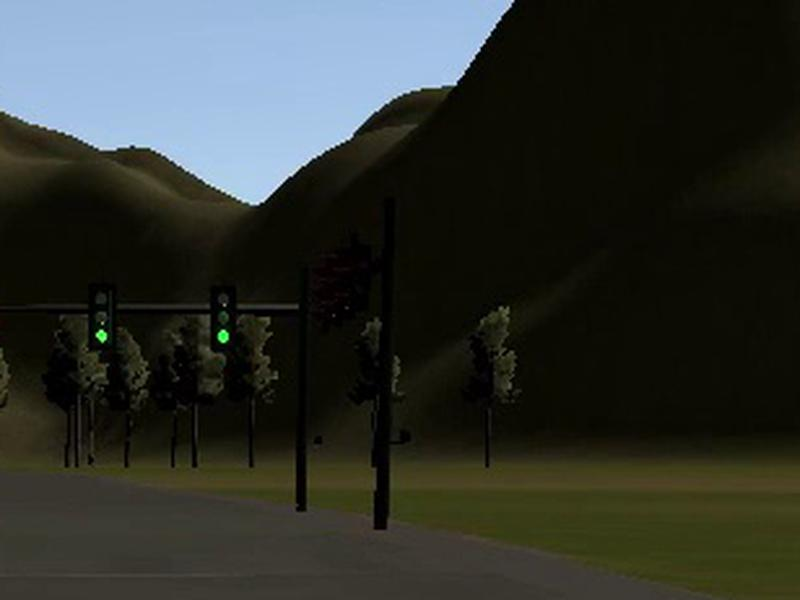Green: (210, 286, 237, 352), (89, 285, 116, 351)
